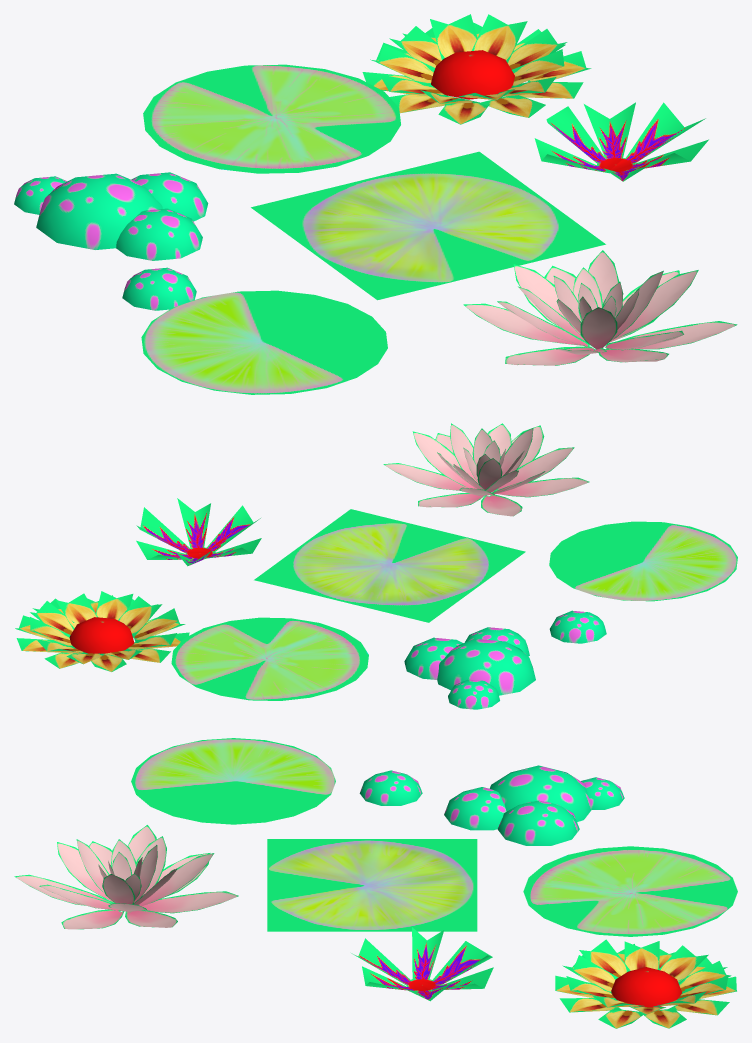
File: nenufares exoticos export01.fbx
3 renders of one model, top to bottom at view 1: azimuth 30°, elevation 25°; view 2: azimuth 150°, elevation 25°; view 3: azimuth 270°, elevation 25°, orthographic. The views are drawn at different scales.
Parts seen in each view (by area): view 1: veg_nenufar03, veg_nenufar02, veg_nenufar01, veg_flor_xochiquetal, veg_flor_nenufar, veg_alga02, veg_flor_solilia, veg_alga05; view 2: veg_nenufar03, veg_nenufar02, veg_nenufar01, veg_flor_nenufar, veg_flor_xochiquetal, veg_alga02, veg_flor_solilia, veg_alga05; view 3: veg_nenufar03, veg_nenufar02, veg_nenufar01, veg_flor_nenufar, veg_flor_xochiquetal, veg_alga02, veg_flor_solilia, veg_alga05.
Part boxes in pixels (bbox=[...]): veg_nenufar03: bbox=[251, 151, 605, 300]; veg_nenufar02: bbox=[143, 64, 400, 173]; veg_nenufar01: bbox=[141, 290, 387, 394]; veg_flor_xochiquetal: bbox=[362, 14, 591, 124]; veg_flor_nenufar: bbox=[463, 250, 737, 365]; veg_alga02: bbox=[14, 172, 208, 260]; veg_flor_solilia: bbox=[534, 102, 708, 181]; veg_alga05: bbox=[122, 267, 196, 310]; veg_nenufar03: bbox=[254, 509, 525, 622]; veg_nenufar02: bbox=[171, 617, 368, 700]; veg_nenufar01: bbox=[549, 521, 737, 601]; veg_flor_nenufar: bbox=[383, 423, 589, 516]; veg_flor_xochiquetal: bbox=[15, 591, 189, 671]; veg_alga02: bbox=[404, 627, 535, 709]; veg_flor_solilia: bbox=[136, 498, 261, 566]; veg_alga05: bbox=[549, 610, 606, 643]; veg_nenufar03: bbox=[267, 839, 477, 931]; veg_nenufar02: bbox=[523, 846, 737, 936]; veg_nenufar01: bbox=[131, 738, 335, 824]; veg_flor_nenufar: bbox=[14, 825, 238, 929]; veg_flor_xochiquetal: bbox=[555, 939, 736, 1028]; veg_alga02: bbox=[444, 765, 624, 845]; veg_flor_solilia: bbox=[351, 927, 493, 1001]; veg_alga05: bbox=[359, 770, 422, 805].
Size of the model in its own units: 201 by 23.34 by 230.
